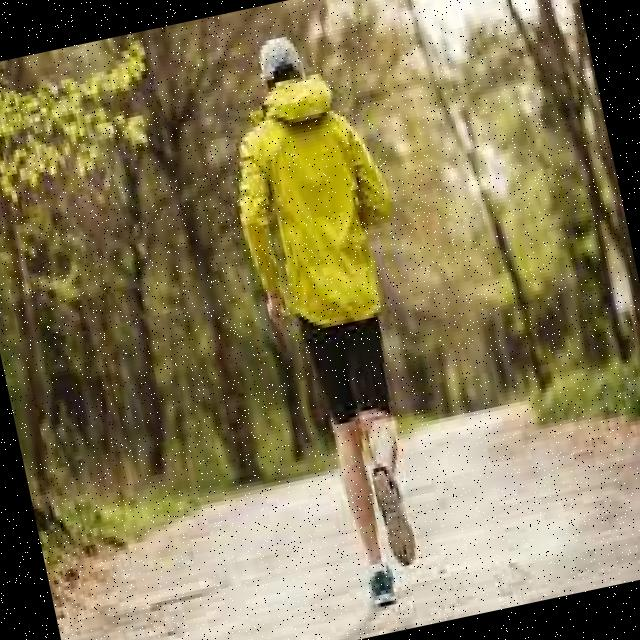Person: (204, 20, 472, 620)
